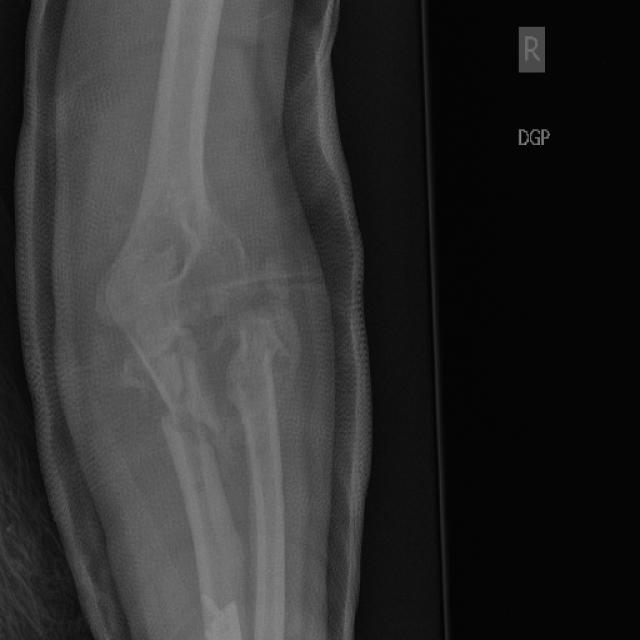elbow positive: (122, 347, 253, 488)
